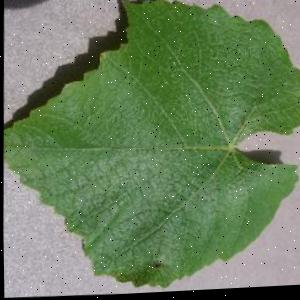Folha: (0, 0, 300, 300)
